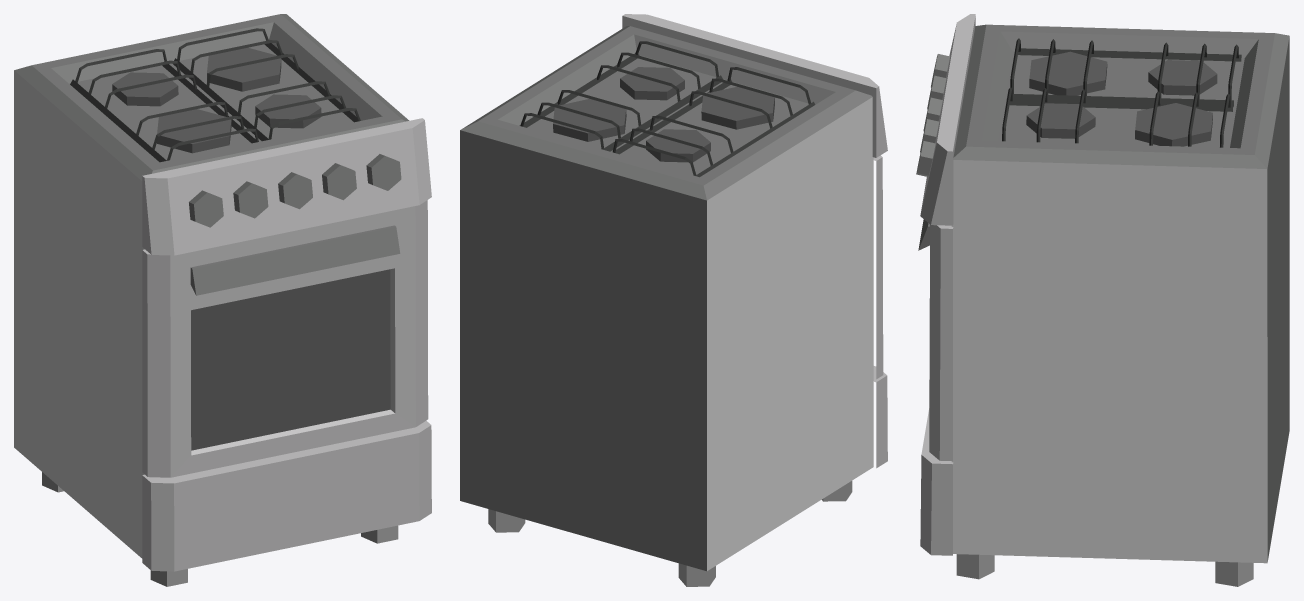
Rendered from Stove2.glb.
3 renders of one model, left to right at view 1: azimuth 30°, elevation 25°; view 2: azimuth 150°, elevation 25°; view 3: azimuth 270°, elevation 25°, orthographic. The views are drawn at different scales.
Visible parts, largest first — view 1: Stove2; view 2: Stove2; view 3: Stove2.
Part boxes in pixels (<box>): Stove2: <box>14,14,431,586</box>; Stove2: <box>460,14,887,586</box>; Stove2: <box>916,14,1289,586</box>.
Bounding box in the file's own units: 0.8138 × 1.15 × 0.8834.
1 material, 1 textured.
